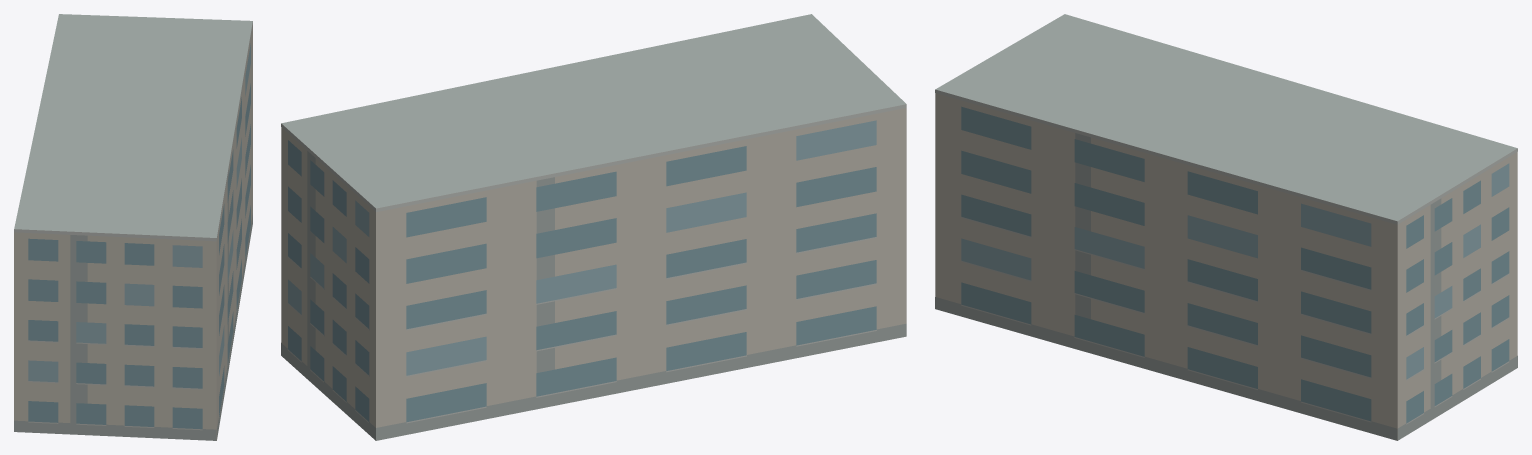
File: residential-7d119196-4804-4037-babb-af10588c80a3.glb
3 views of the same model, side by side, from view 1: azimuth 30°, elevation 25°; view 2: azimuth 150°, elevation 25°; view 3: azimuth 270°, elevation 25° (orthographic). The views are drawn at different scales.
Parts seen in each view (by area): view 1: residential-7d119196-4804-4037-babb-af10588c80a3.tmp; view 2: residential-7d119196-4804-4037-babb-af10588c80a3.tmp; view 3: residential-7d119196-4804-4037-babb-af10588c80a3.tmp.
Part boxes in pixels (x1,y1,x2,y2): residential-7d119196-4804-4037-babb-af10588c80a3.tmp: [14, 14, 252, 440]; residential-7d119196-4804-4037-babb-af10588c80a3.tmp: [281, 14, 906, 440]; residential-7d119196-4804-4037-babb-af10588c80a3.tmp: [935, 14, 1517, 440].
Bounding box in the file's own units: 30.89 × 15.25 × 36.68.
